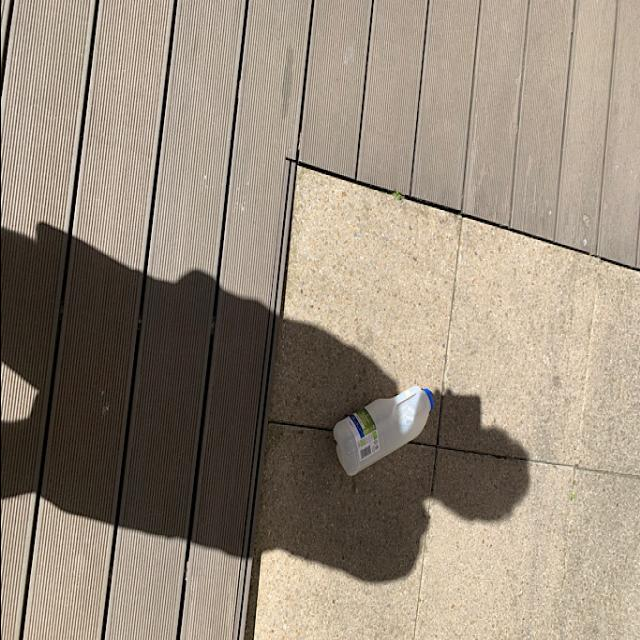HDPEM: (327, 382, 435, 480)
